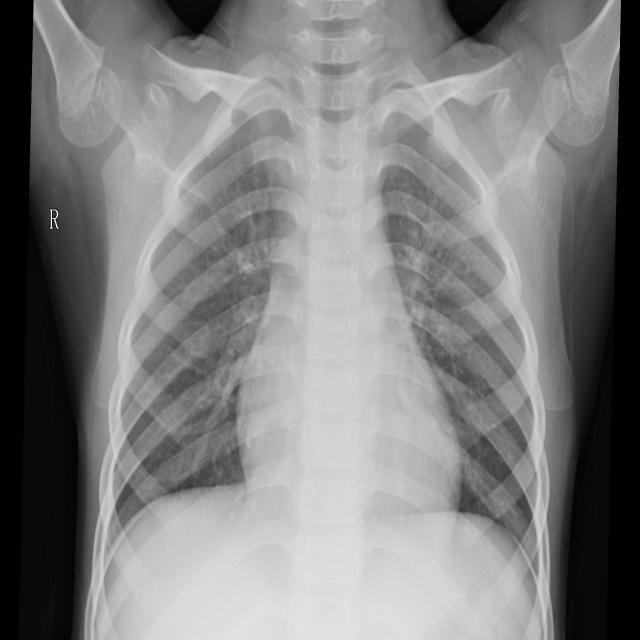no-pneumonia: (100, 81, 307, 549), (382, 115, 550, 592)
